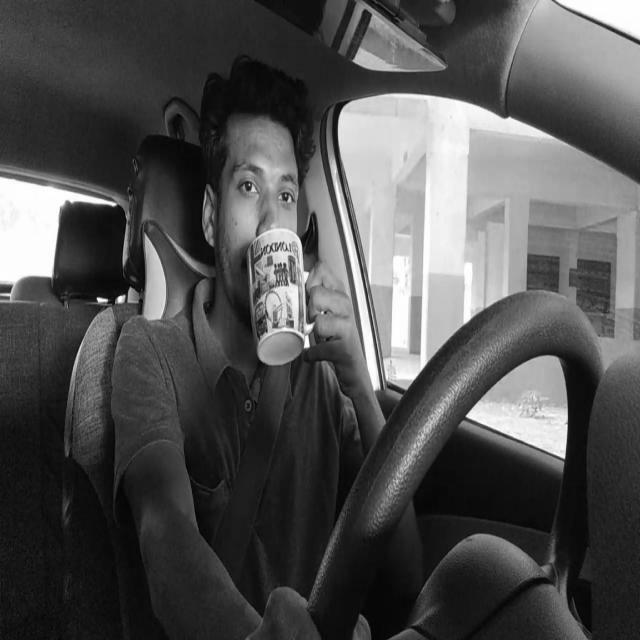Drinking: (247, 229, 333, 365)
